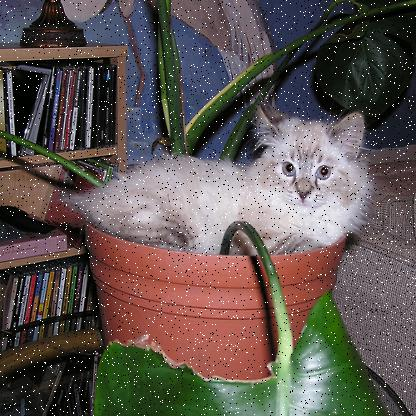cat: (105, 98, 379, 256)
